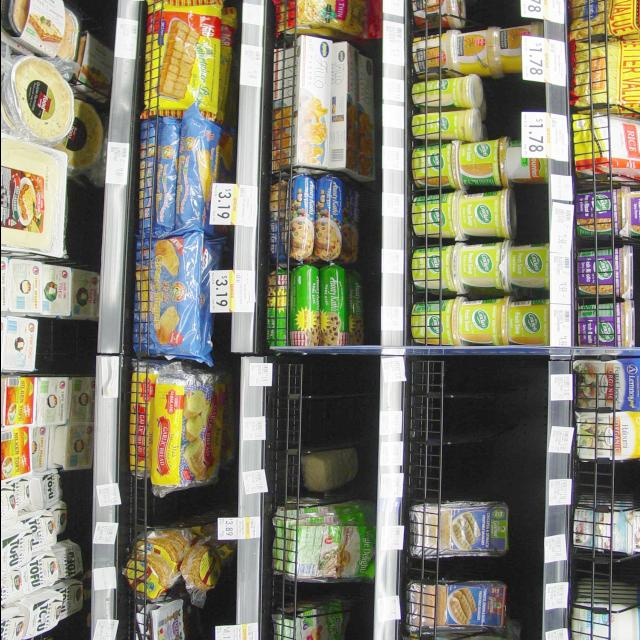empty_space: (417, 359, 539, 493), (285, 363, 369, 441), (39, 324, 96, 372), (484, 79, 519, 137), (511, 191, 552, 235), (573, 558, 634, 585), (576, 468, 636, 495), (147, 494, 201, 522)
